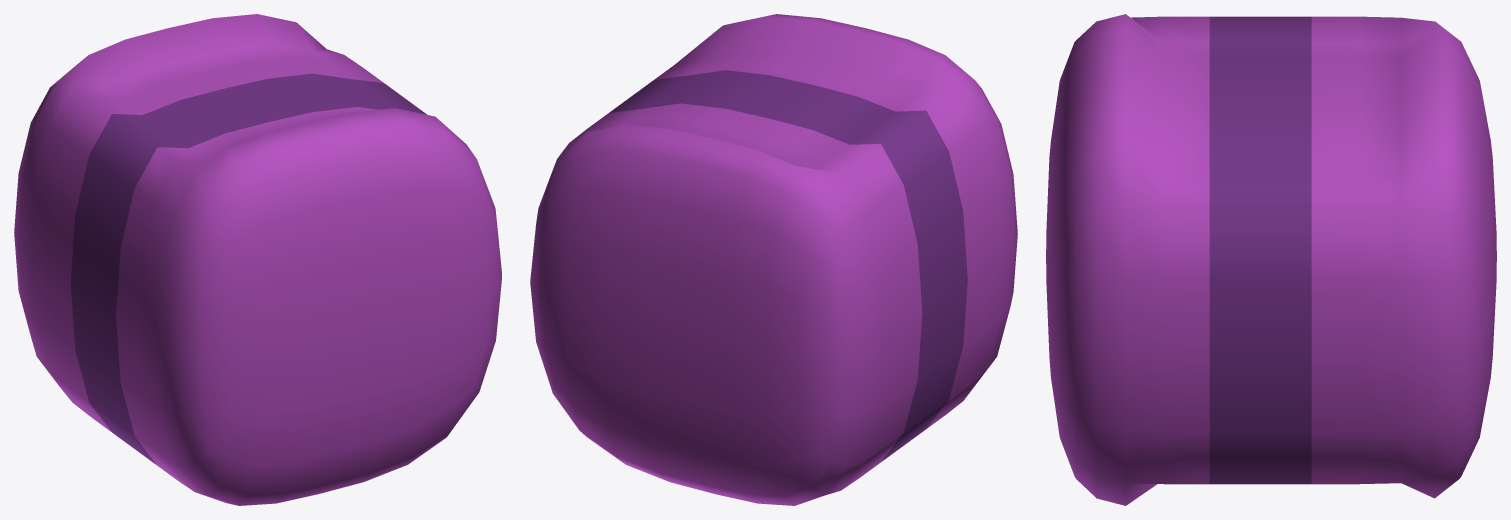
The model's file is PurpleSquareCandy.fbx.
The picture shows the model from 3 angles, left to right: view 1: azimuth 30°, elevation 25°; view 2: azimuth 150°, elevation 25°; view 3: azimuth 270°, elevation 25°; orthographic projection. The views are drawn at different scales.
Parts seen in each view (by area): view 1: SquareCandy; view 2: SquareCandy; view 3: SquareCandy.
Boxes of the visible parts, left/top/right/bottom form: SquareCandy: left=14, top=14, right=501, bottom=505; SquareCandy: left=530, top=14, right=1017, bottom=505; SquareCandy: left=1046, top=14, right=1496, bottom=505.
Size of the model in its own units: 99.21 by 103 by 101.
